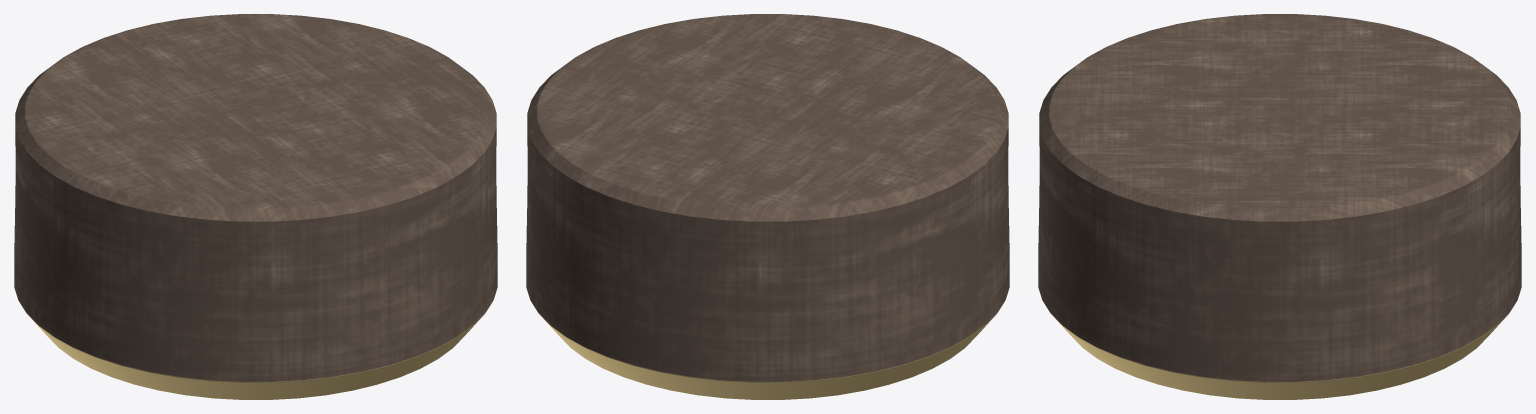
The model's file is gongtable.gltf.
3 views of the same model, side by side, from view 1: azimuth 30°, elevation 25°; view 2: azimuth 150°, elevation 25°; view 3: azimuth 270°, elevation 25° (orthographic).
Parts seen in each view (by area): view 1: Cube; view 2: Cube; view 3: Cube.
Part boxes in pixels (left/top/right/bottom): Cube: left=14, top=14, right=497, bottom=399; Cube: left=526, top=14, right=1009, bottom=399; Cube: left=1038, top=14, right=1521, bottom=399.
Size of the model in its own units: 0.6911 by 0.31 by 0.6911.
1 material, 1 textured.
